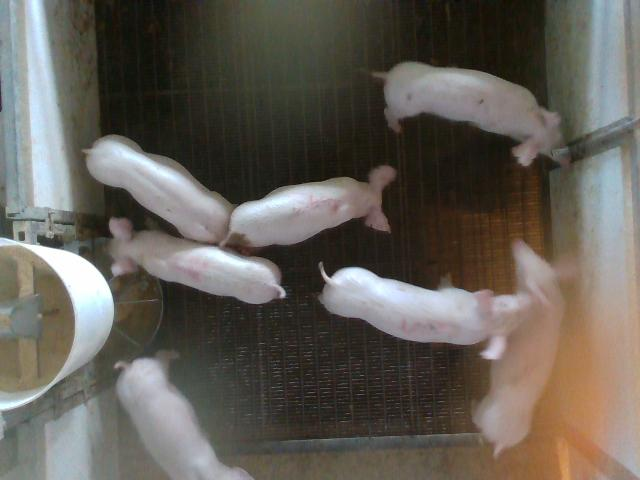pig-3: (319, 263, 528, 359)
pig-4: (110, 218, 286, 304)
pig-5: (221, 165, 395, 247)
